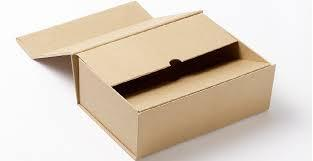box: (16, 1, 276, 161)
